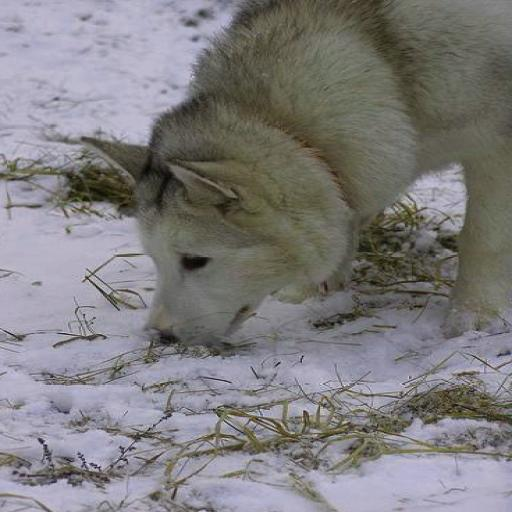dog_face: (69, 138, 346, 346)
